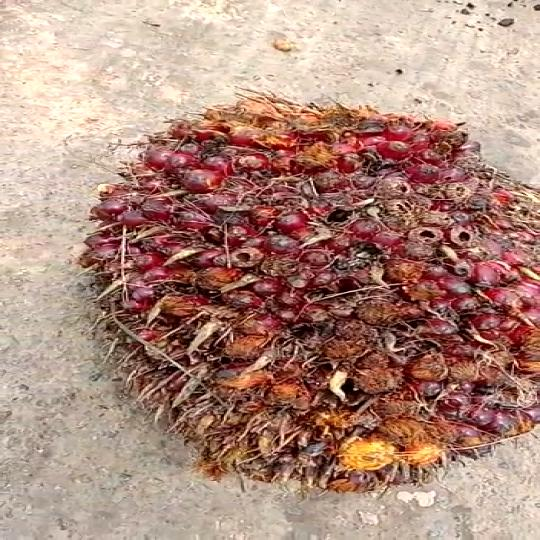masak: (90, 95, 540, 499)
